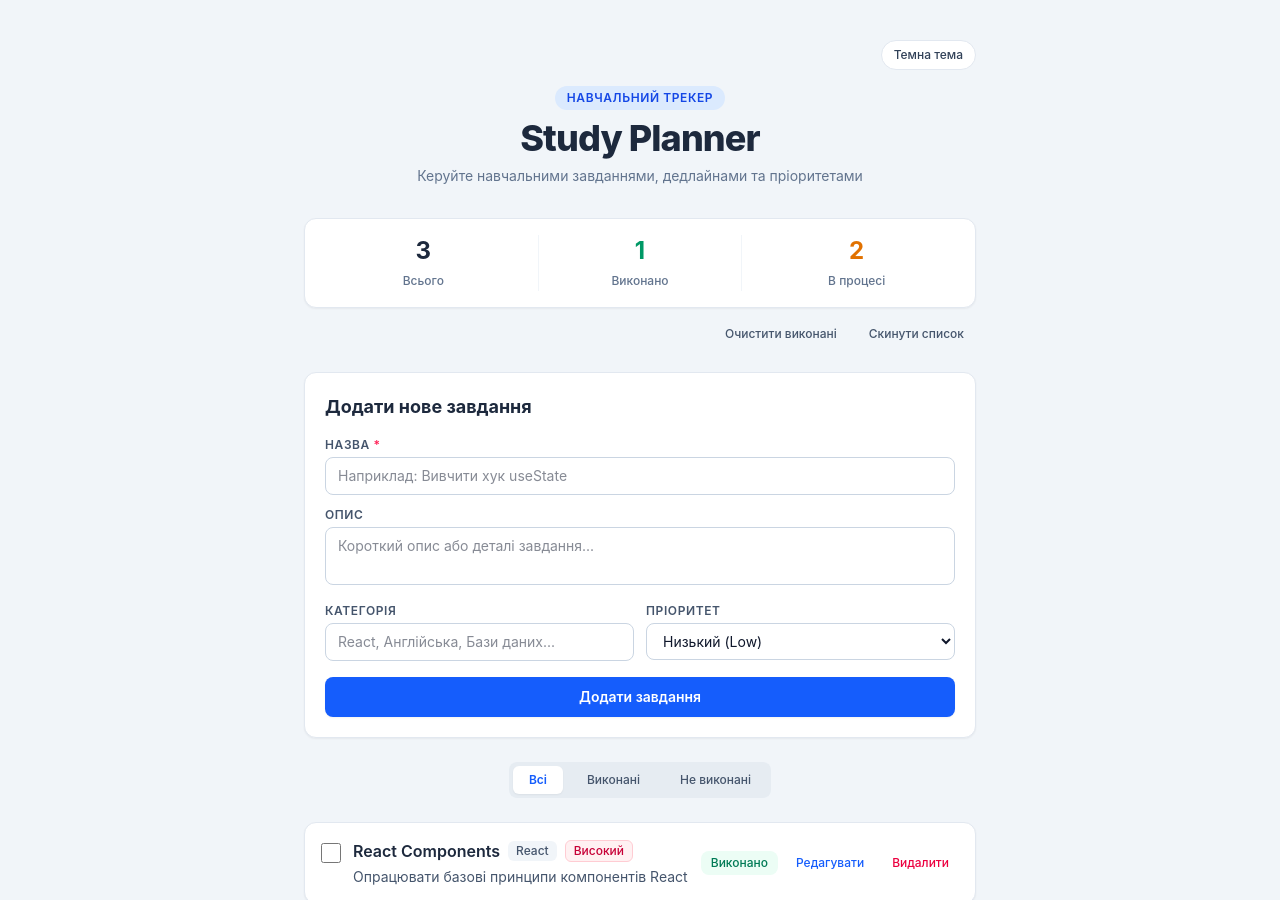
Study Planner (App) › перемикає тему світла/темна через useContext
What coordinates should you click on to do the following:
click the button "Темна тема"
I would click on:
 (928, 55)
Its box is [881,40,976,70].
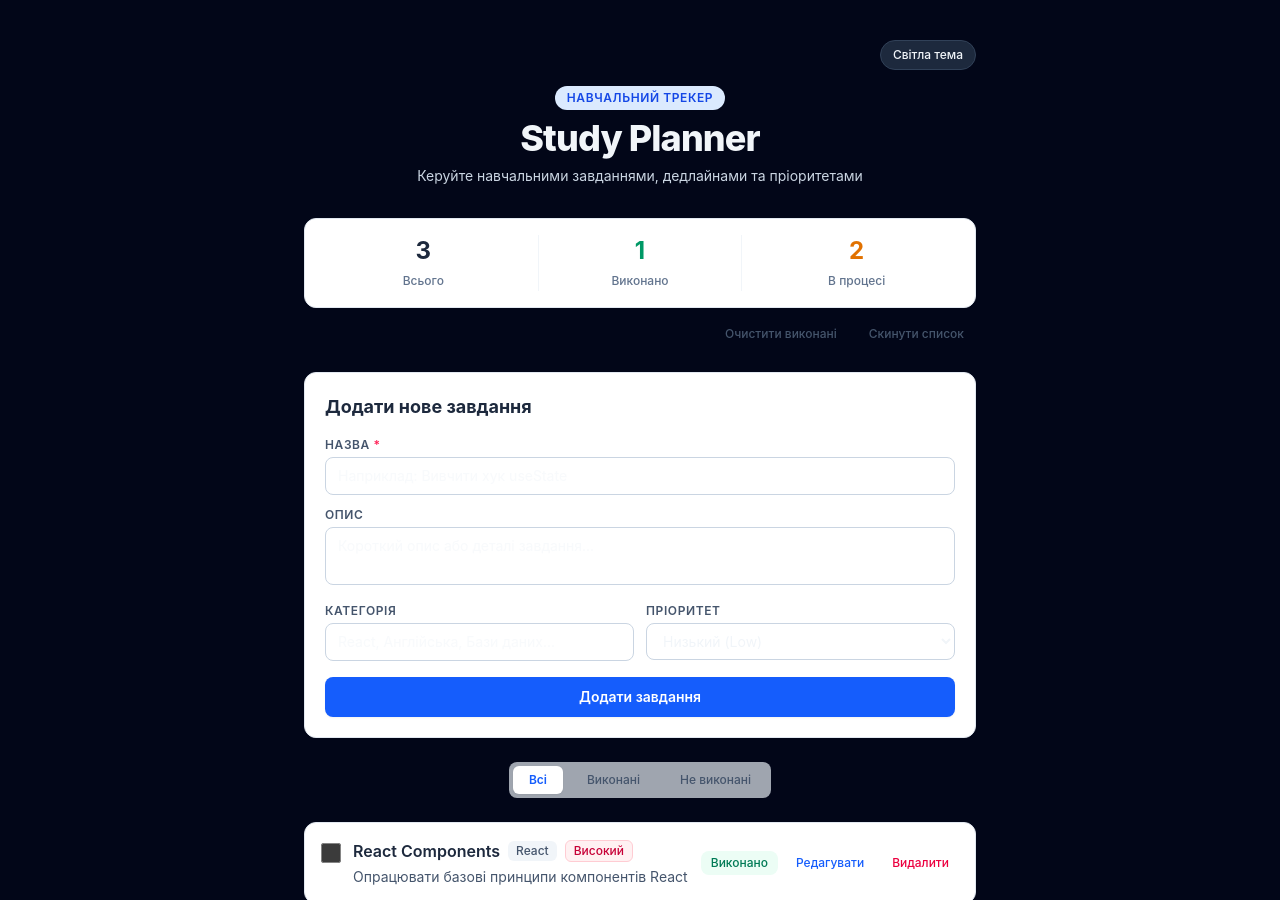
Now the button "Світла тема" is shown, box [880,40,976,70]
